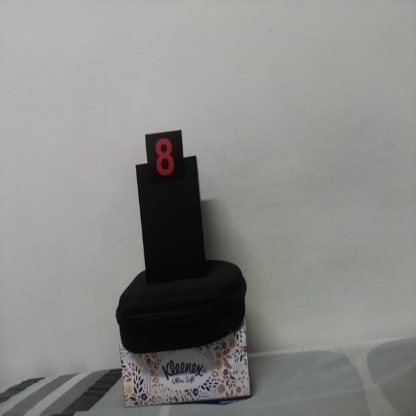id_8: (145, 135, 183, 194)
